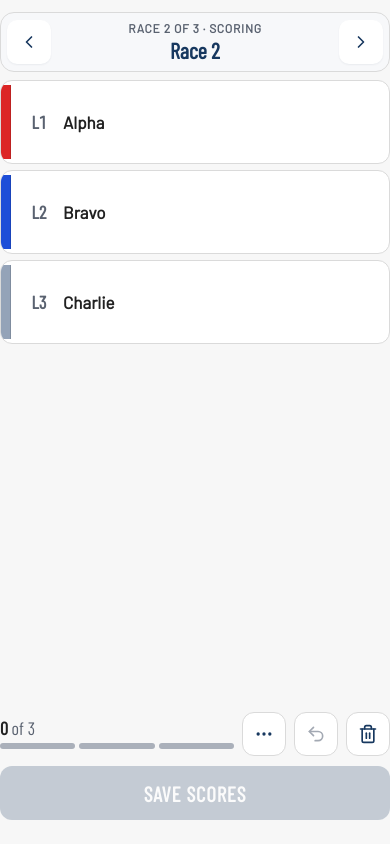
it: hors concours › leaves HC and cards out of the menu when the scorer can not change them
Click the button named "Race tools": (264, 734) x1=242 y1=712 x2=286 y2=756
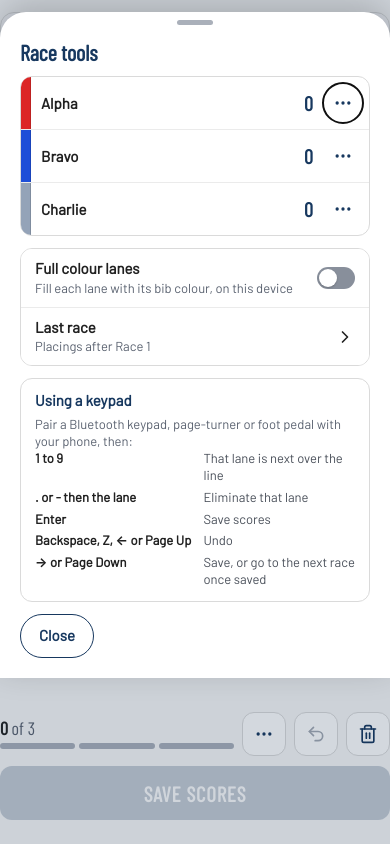
Click the button named "More for Bravo": (343, 156) x1=323 y1=136 x2=363 y2=176
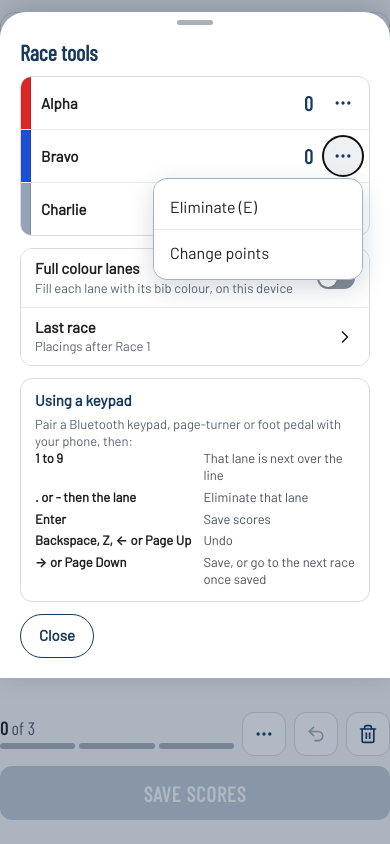
Now the menu item "Change points" is shown, box x1=154 y1=229 x2=362 y2=275
